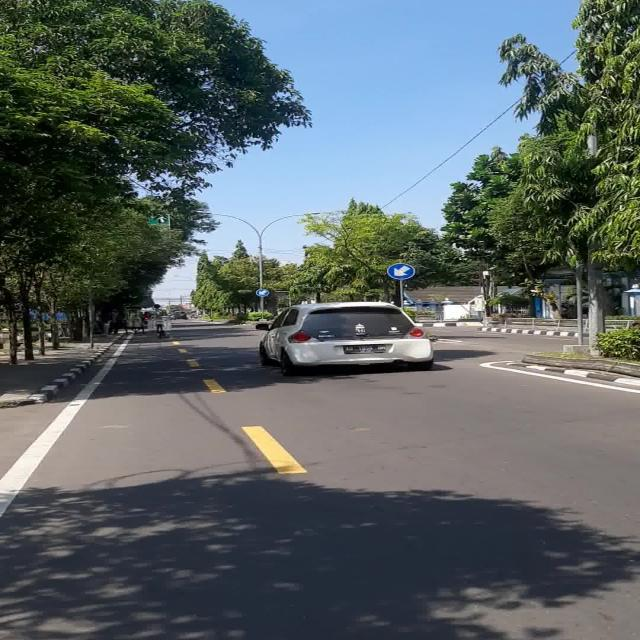Lajur Kiri: (387, 264, 415, 280)
